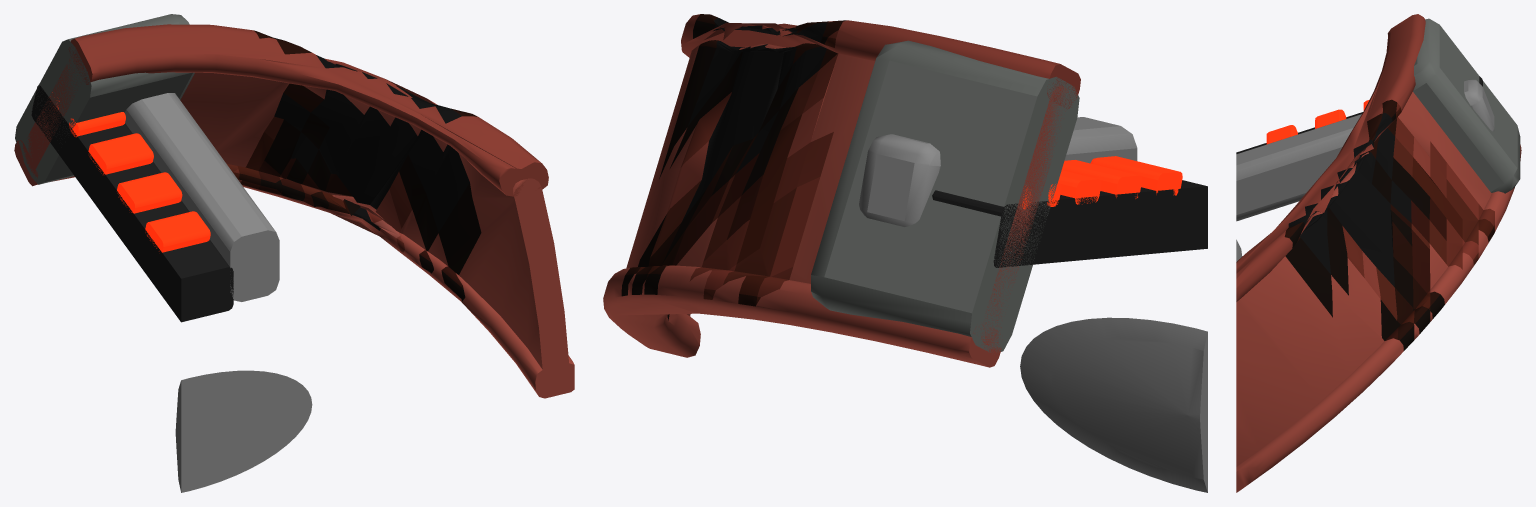
File: zeppelin_13.glb
3 renders of one model, left to right at view 1: azimuth 30°, elevation 25°; view 2: azimuth 150°, elevation 25°; view 3: azimuth 270°, elevation 25°, orthographic. The views are drawn at different scales.
Parts seen in each view (by area): view 1: duct, duct_rim5, rail_r, hull, channel, duct_rim-5, clamp, lamp2, lamp4, lamp3, lamp1; view 2: clamp, duct, hull, duct_rim-5, channel, duct_rim5, rail_r, lamp4, lamp3, lamp2; view 3: duct, duct_rim5, clamp, duct_rim-5, rail_r, lamp4, lamp3.
Part boxes in pixels (x1=…): duct: x1=27, y1=54, x2=569, y2=381; duct_rim5: x1=68, y1=24, x2=548, y2=196; rail_r: x1=124, y1=93, x2=279, y2=301; hull: x1=175, y1=370, x2=312, y2=492; channel: x1=31, y1=85, x2=233, y2=322; duct_rim-5: x1=14, y1=140, x2=574, y2=398; clamp: x1=15, y1=14, x2=194, y2=184; lamp2: x1=88, y1=133, x2=153, y2=174; lamp4: x1=145, y1=211, x2=210, y2=252; lamp3: x1=117, y1=172, x2=182, y2=213; lamp1: x1=69, y1=112, x2=125, y2=137; clamp: x1=811, y1=40, x2=1079, y2=352; duct: x1=626, y1=40, x2=1068, y2=345; hull: x1=1020, y1=317, x2=1207, y2=492; duct_rim-5: x1=603, y1=265, x2=1002, y2=367; channel: x1=932, y1=180, x2=1207, y2=267; duct_rim5: x1=681, y1=14, x2=1080, y2=109; rail_r: x1=859, y1=117, x2=1137, y2=226; lamp4: x1=1090, y1=156, x2=1182, y2=195; lamp3: x1=1062, y1=160, x2=1141, y2=198; lamp2: x1=1058, y1=170, x2=1101, y2=204; duct: x1=1236, y1=92, x2=1491, y2=466; duct_rim5: x1=1236, y1=14, x2=1425, y2=301; clamp: x1=1413, y1=18, x2=1520, y2=193; duct_rim-5: x1=1236, y1=144, x2=1521, y2=492; rail_r: x1=1236, y1=79, x2=1494, y2=221; lamp4: x1=1266, y1=125, x2=1297, y2=144; lamp3: x1=1315, y1=109, x2=1346, y2=128.
Size of the model in its own units: 24 by 21.97 by 17.64.
